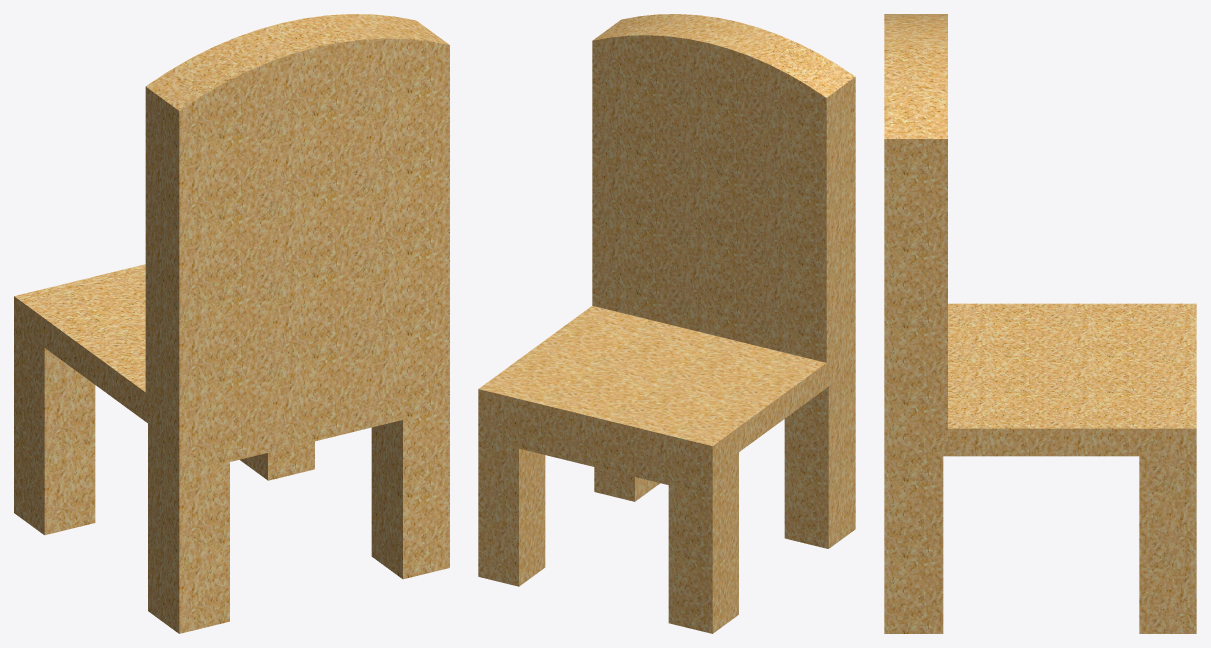
3 views of the same model, side by side, from view 1: azimuth 30°, elevation 25°; view 2: azimuth 150°, elevation 25°; view 3: azimuth 270°, elevation 25° (orthographic). The views are drawn at different scales.
Visible parts, largest first — view 1: SketchUp_ID2; view 2: SketchUp_ID2; view 3: SketchUp_ID2.
Boxes of the visible parts, left/top/right/bottom form: SketchUp_ID2: left=14, top=14, right=449, bottom=633; SketchUp_ID2: left=478, top=14, right=855, bottom=633; SketchUp_ID2: left=884, top=14, right=1196, bottom=633.
Bounding box in the file's own units: 0.4106 × 0.8019 × 0.4339.
1 material, 1 textured.
